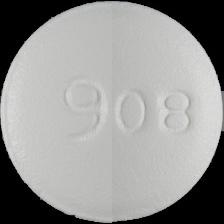0093-7208: (0, 0, 224, 224)
